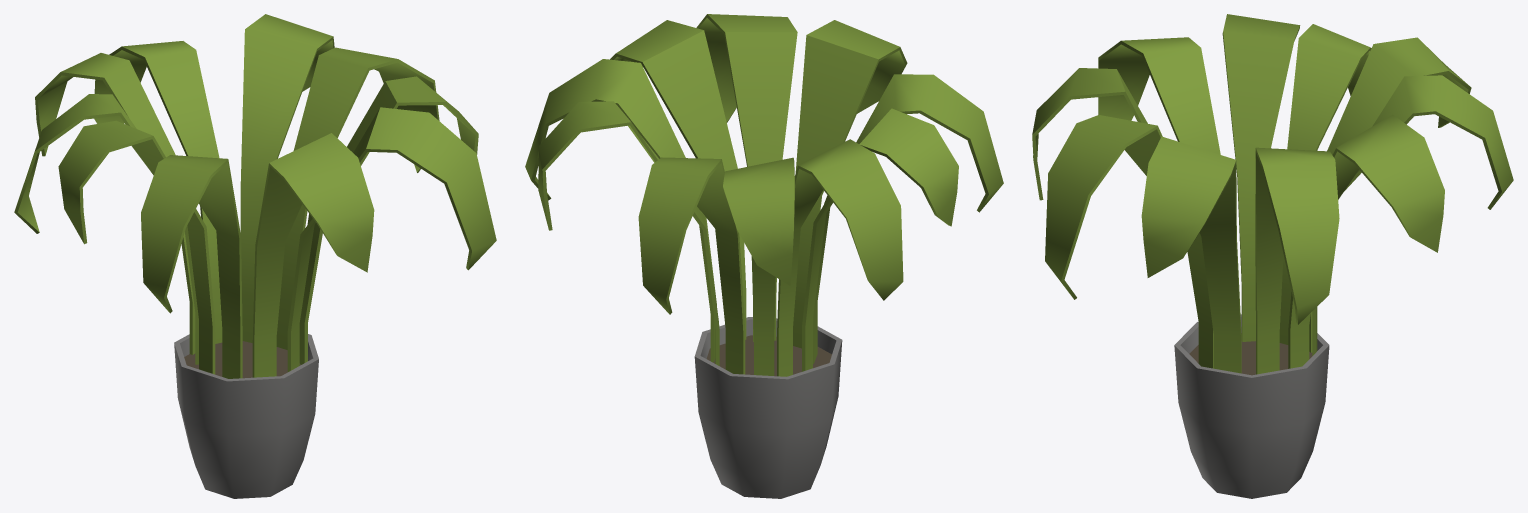
The model's file is Houseplant_6.glb.
3 renders of one model, left to right at view 1: azimuth 30°, elevation 25°; view 2: azimuth 150°, elevation 25°; view 3: azimuth 270°, elevation 25°, orthographic. The views are drawn at different scales.
Parts seen in each view (by area): view 1: Houseplant_6; view 2: Houseplant_6; view 3: Houseplant_6.
Boxes of the visible parts, <box> form: Houseplant_6: <box>14,14,496,498</box>; Houseplant_6: <box>525,14,1003,498</box>; Houseplant_6: <box>1032,14,1513,498</box>.
Bounding box in the file's own units: 0.5085 × 0.4688 × 0.5135.
3 materials, 3 textured.
